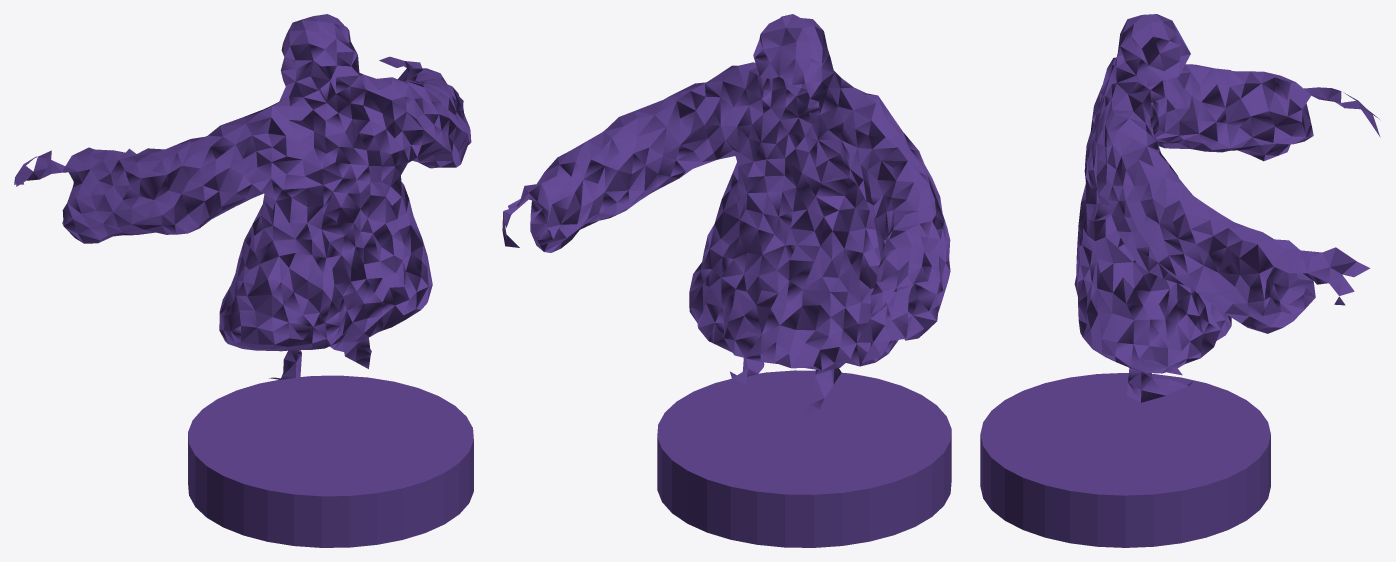
Rendered from witch_for_web.glb.
3 views of the same model, side by side, from view 1: azimuth 30°, elevation 25°; view 2: azimuth 150°, elevation 25°; view 3: azimuth 270°, elevation 25° (orthographic). The views are drawn at different scales.
Parts seen in each view (by area): view 1: Cylinder; view 2: Cylinder; view 3: Cylinder.
Part boxes in pixels (x1=…): Cylinder: x1=14, y1=14, x2=473, y2=547; Cylinder: x1=502, y1=14, x2=951, y2=547; Cylinder: x1=980, y1=14, x2=1380, y2=547.
Size of the model in its own units: 15.25 by 16.64 by 12.91.
